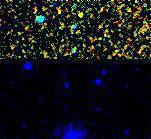star: (68, 0, 98, 25)
